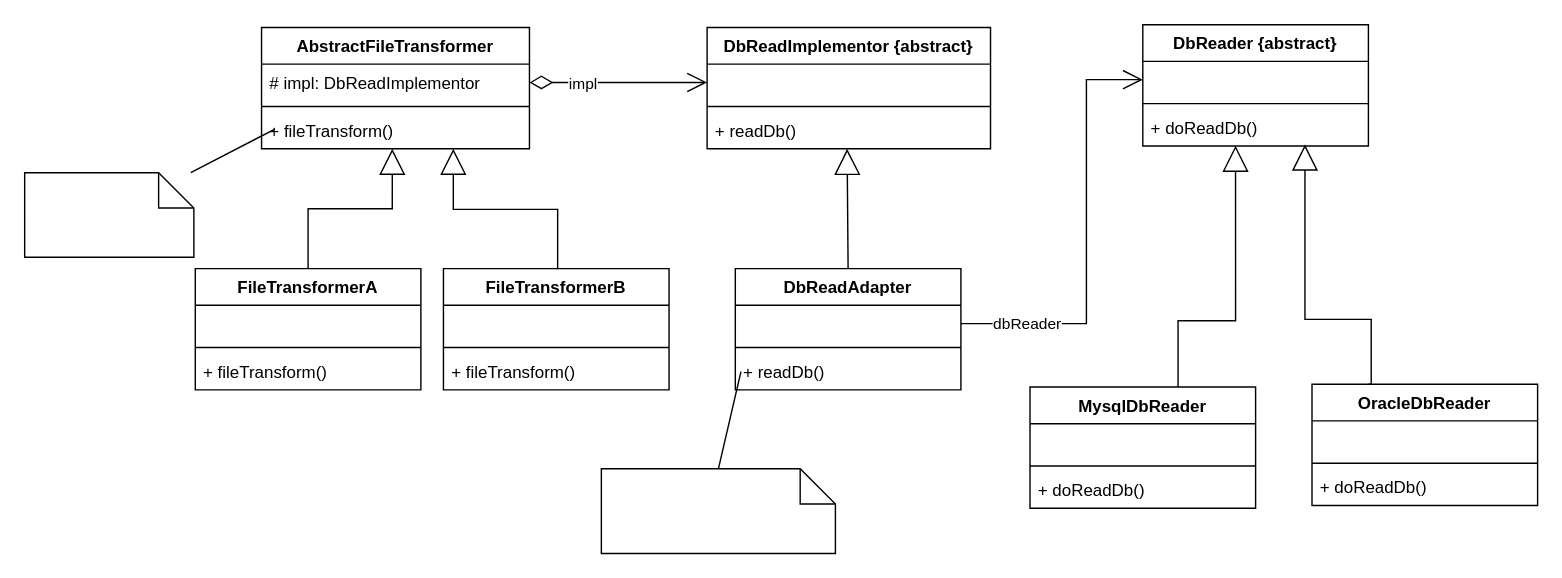
Some shapes in this 1562 by 578 pixel diagram are drawn without their labels. Each missing label, with the centre of its shape:
"dbReader.doReadDb();" belongs at pixel 717 510.
"impl.readDb();" belongs at pixel 108 214.
